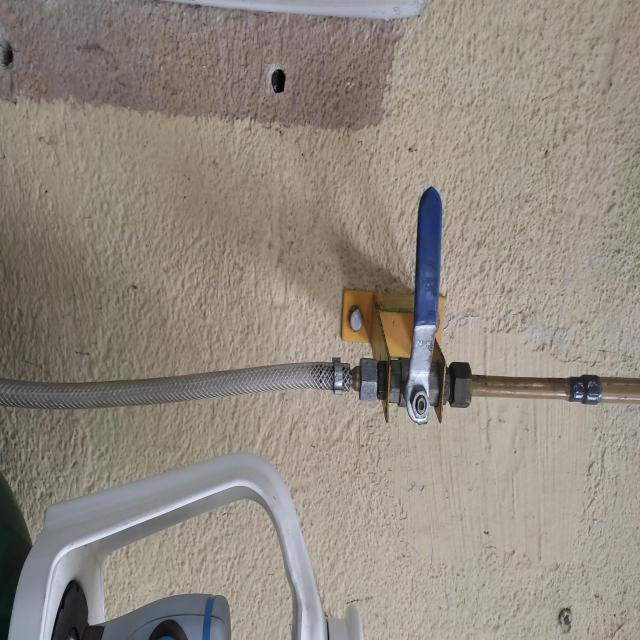closed_valve: (382, 181, 457, 428)
